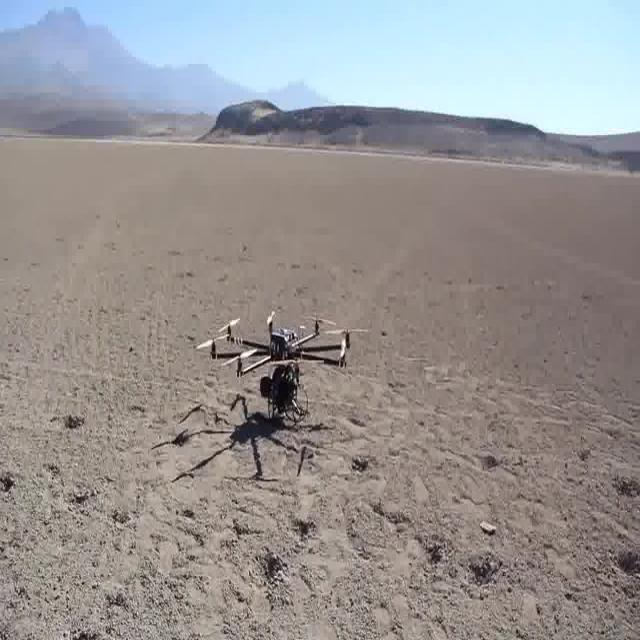drone: (188, 308, 373, 456)
